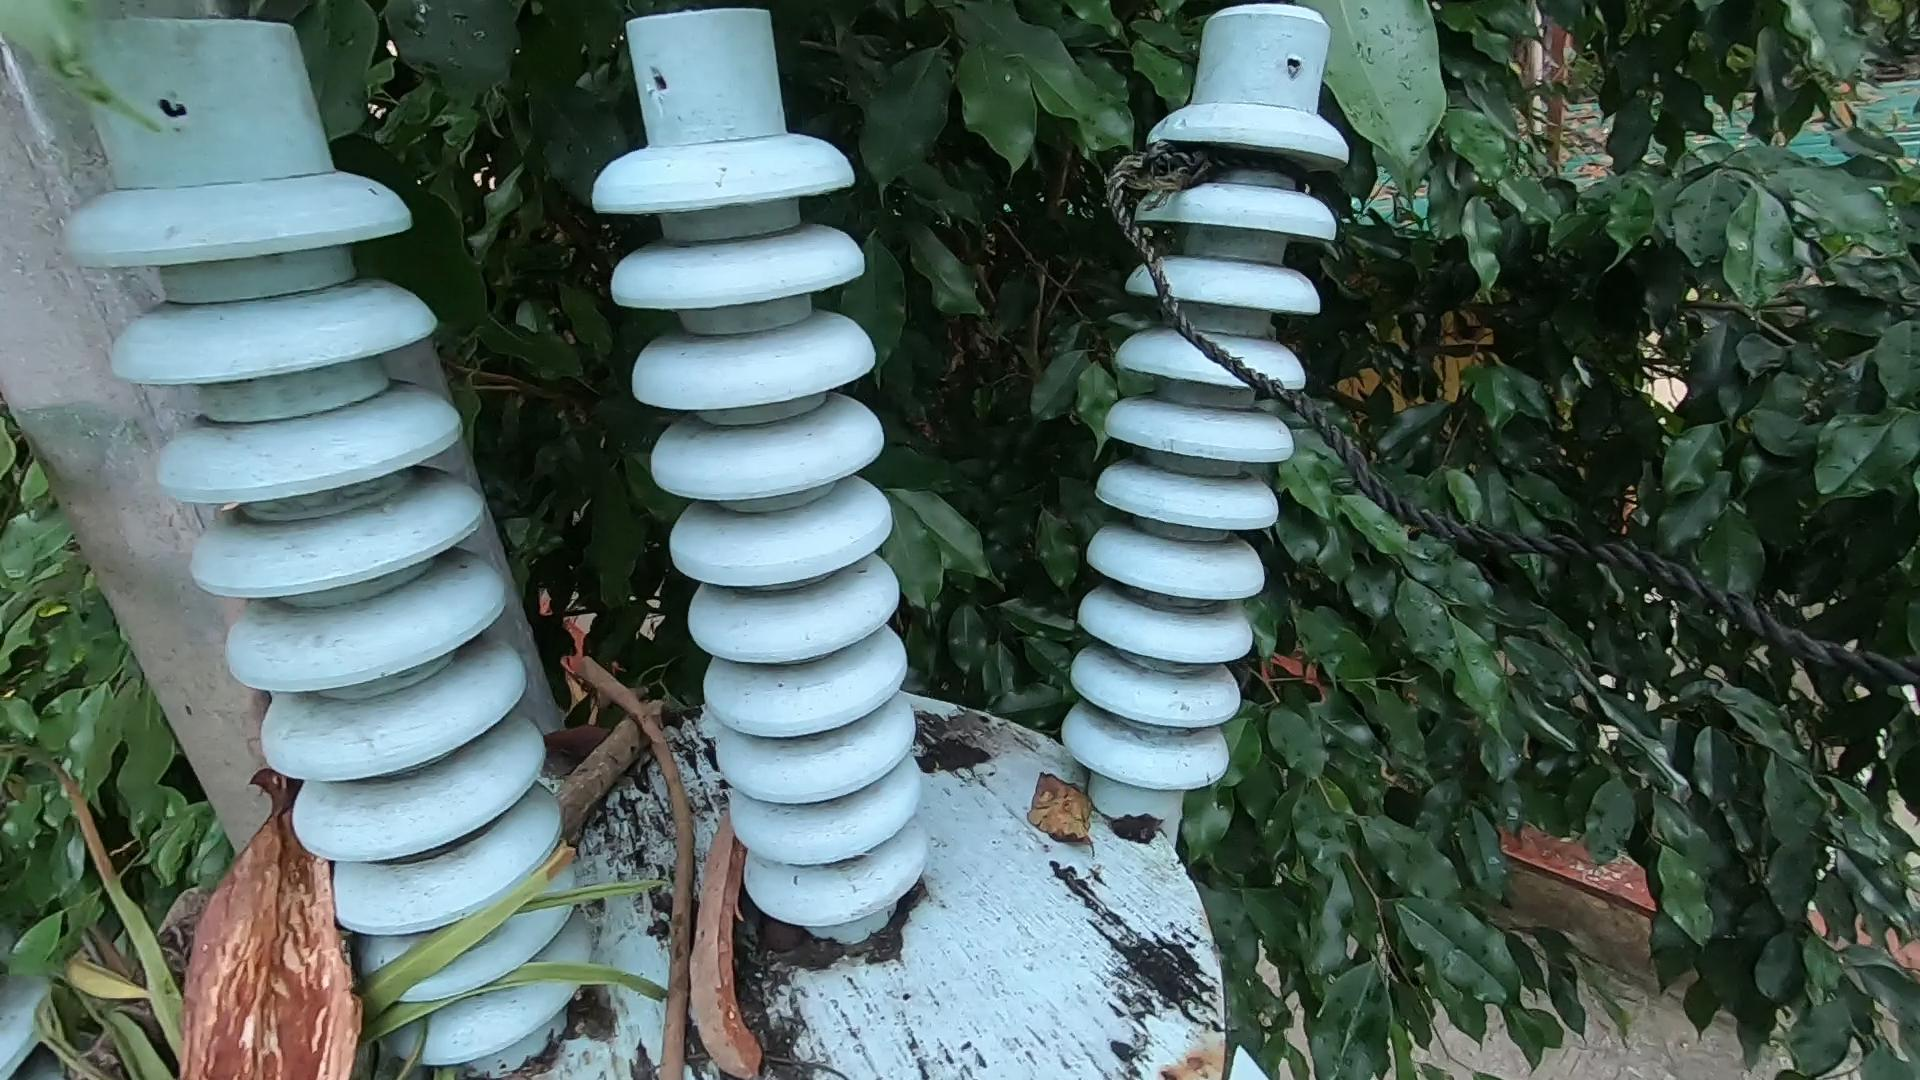branch with leaves: (53, 709, 651, 1080)
leaf: (1014, 748, 1116, 887)
mahogany fruit: (210, 748, 429, 1080), (676, 818, 833, 1080)
tree branch: (570, 640, 683, 1080)
